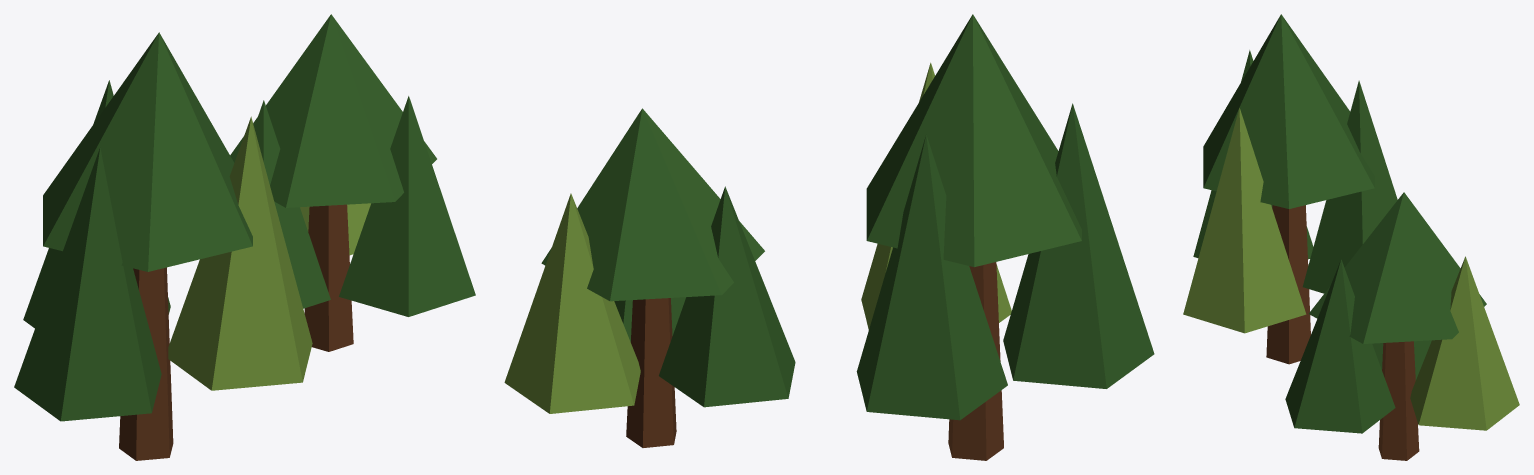
Rendered from WillowPair.fbx.
3 renders of one model, left to right at view 1: azimuth 30°, elevation 25°; view 2: azimuth 150°, elevation 25°; view 3: azimuth 270°, elevation 25°, orthographic. The views are drawn at different scales.
Visible parts, largest first — view 1: WillowPair; view 2: WillowPair; view 3: WillowPair.
Part boxes in pixels (<box>): WillowPair: <box>14,14,475,460</box>; WillowPair: <box>504,14,1154,460</box>; WillowPair: <box>1183,14,1519,460</box>.
Bounding box in the file's own units: 86.88 × 73.15 × 65.12.
